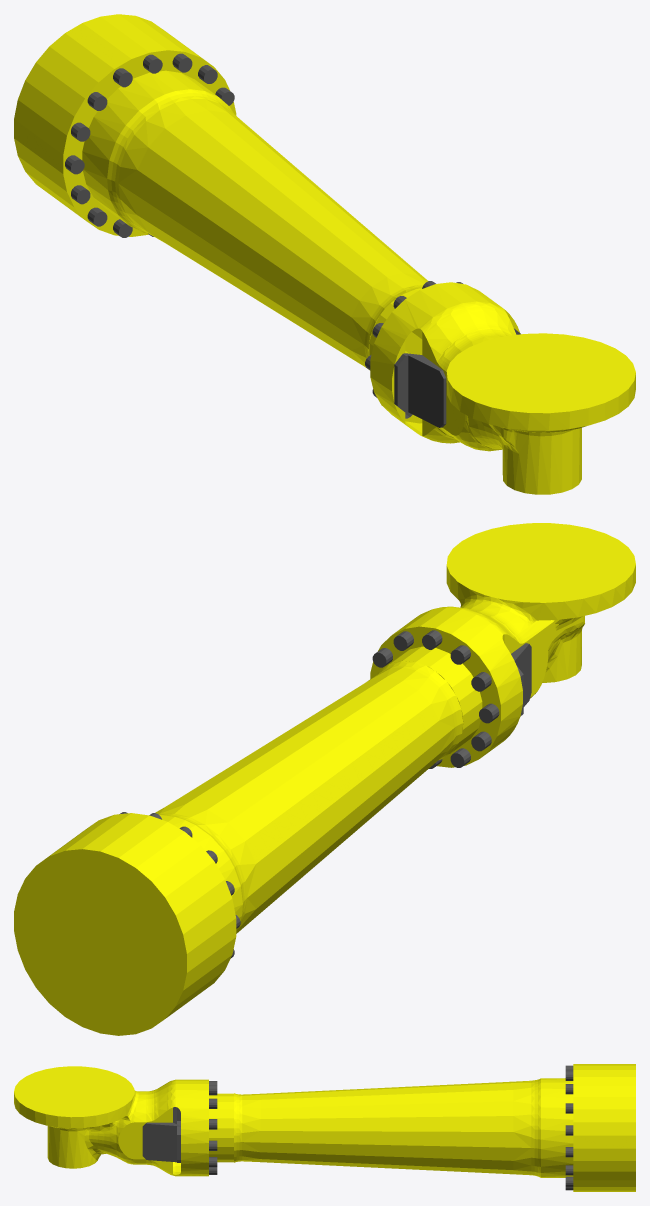
The picture shows the model from 3 angles, top to bottom: view 1: azimuth 30°, elevation 25°; view 2: azimuth 150°, elevation 25°; view 3: azimuth 270°, elevation 25°; orthographic projection. The views are drawn at different scales.
Parts seen in each view (by area): view 1: node; view 2: node; view 3: node.
Part boxes in pixels (<box>): node: <box>14,14,635,494</box>; node: <box>14,523,635,1035</box>; node: <box>14,1064,635,1191</box>.
Size of the model in its own units: 159 by 160 by 778.
